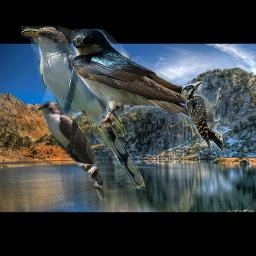Cuckoo: (21, 26, 145, 189), (36, 101, 112, 201)
Swallow: (71, 29, 212, 131)
Woodpecker: (181, 81, 227, 153)
